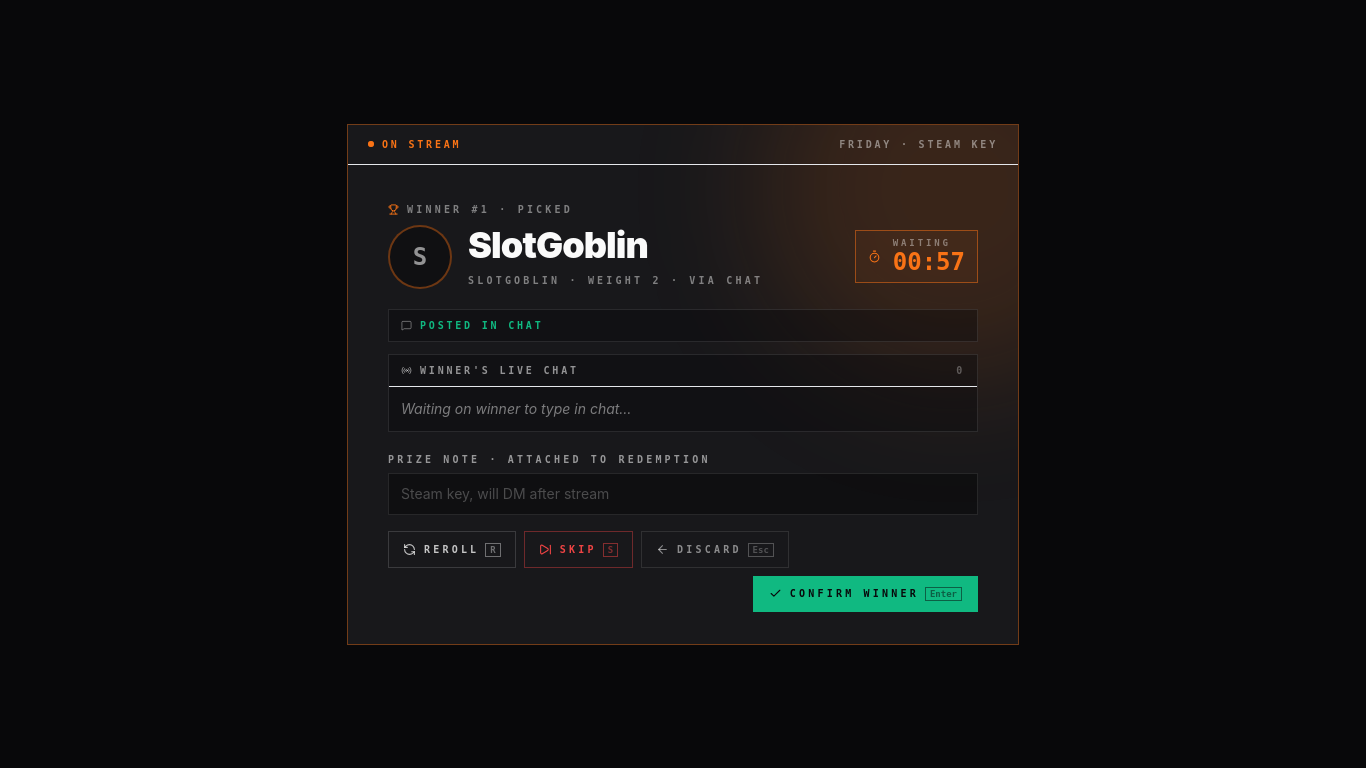
Test case: not inline: the same failure keeps the raw error text
Click the button "Reroll" at x=452, y=549, box [388,530,516,568]
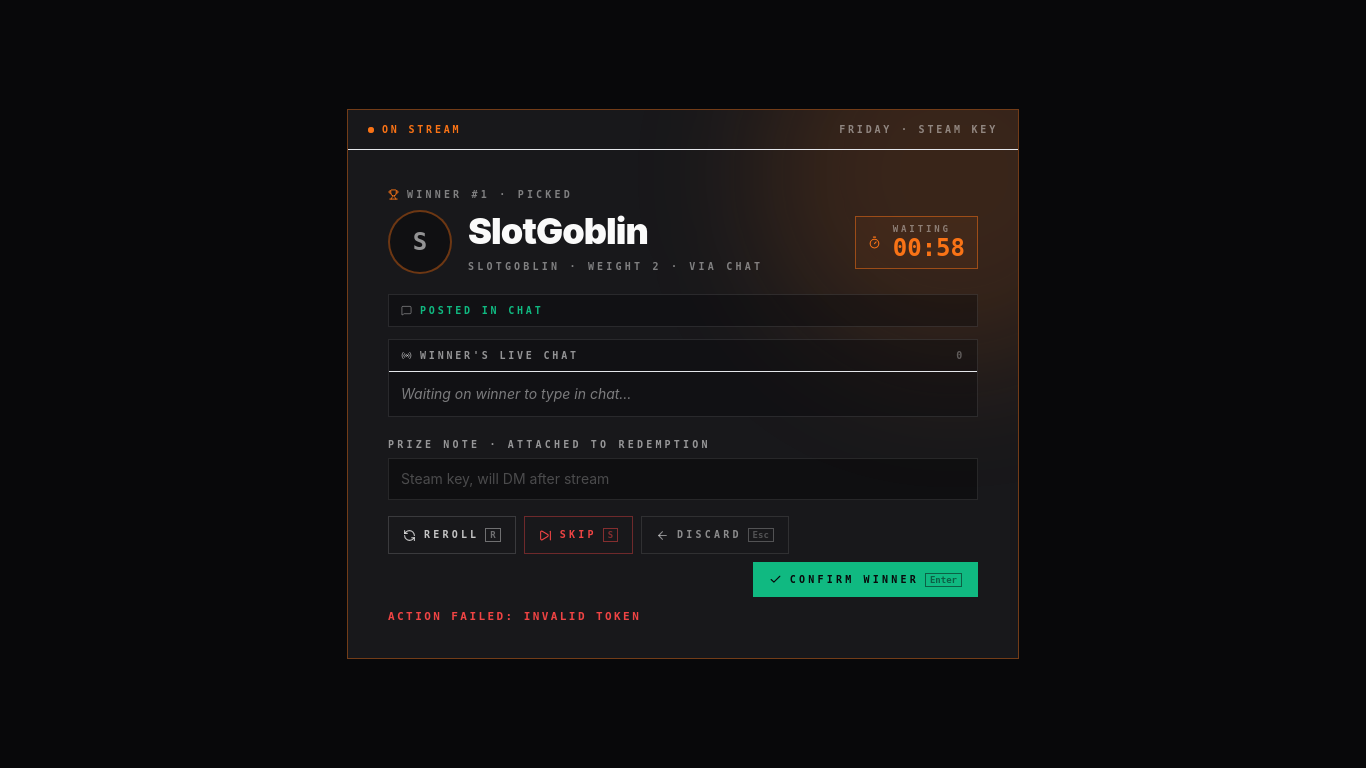
expect the text "Action failed: Invalid token" is shown: met, box [388,610,641,623]
